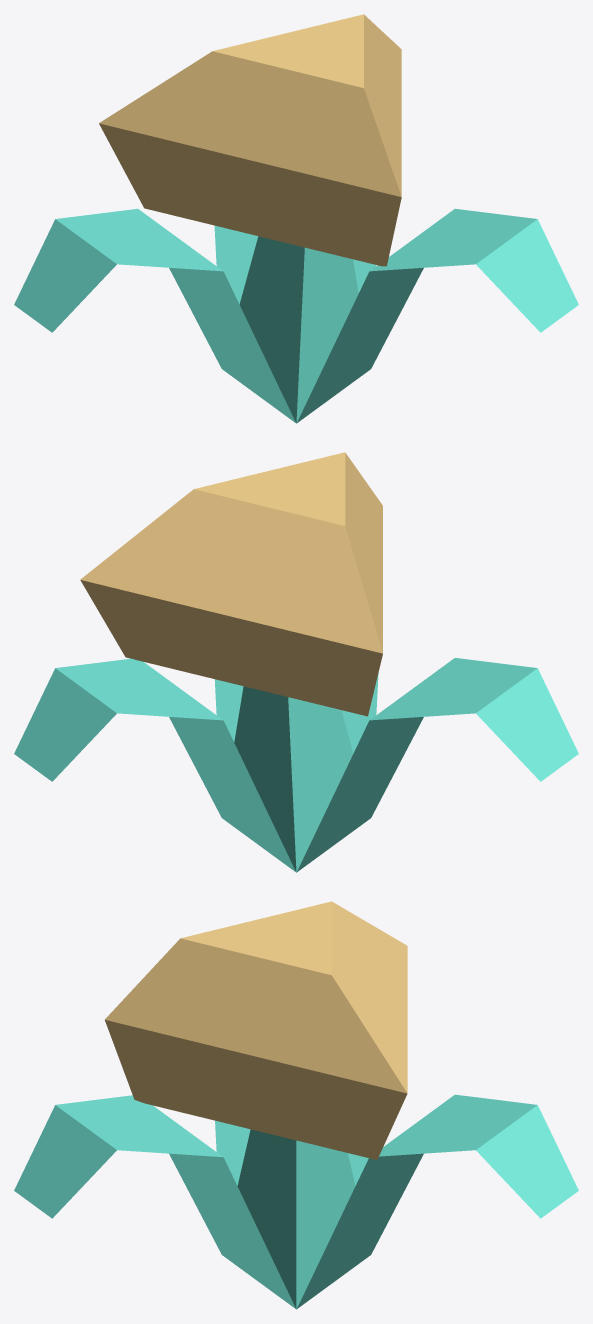
Rendered from flower_yellowB.glb.
3 renders of one model, top to bottom at view 1: azimuth 30°, elevation 25°; view 2: azimuth 150°, elevation 25°; view 3: azimuth 270°, elevation 25°, orthographic.
Visible parts, largest first — view 1: flower_yellowB; view 2: flower_yellowB; view 3: flower_yellowB.
Part boxes in pixels (x1,y1,x2,y2): flower_yellowB: (14, 14, 578, 423); flower_yellowB: (14, 452, 578, 872); flower_yellowB: (14, 901, 578, 1309).
Bounding box in the file's own units: 0.2073 × 0.1585 × 0.2392.
